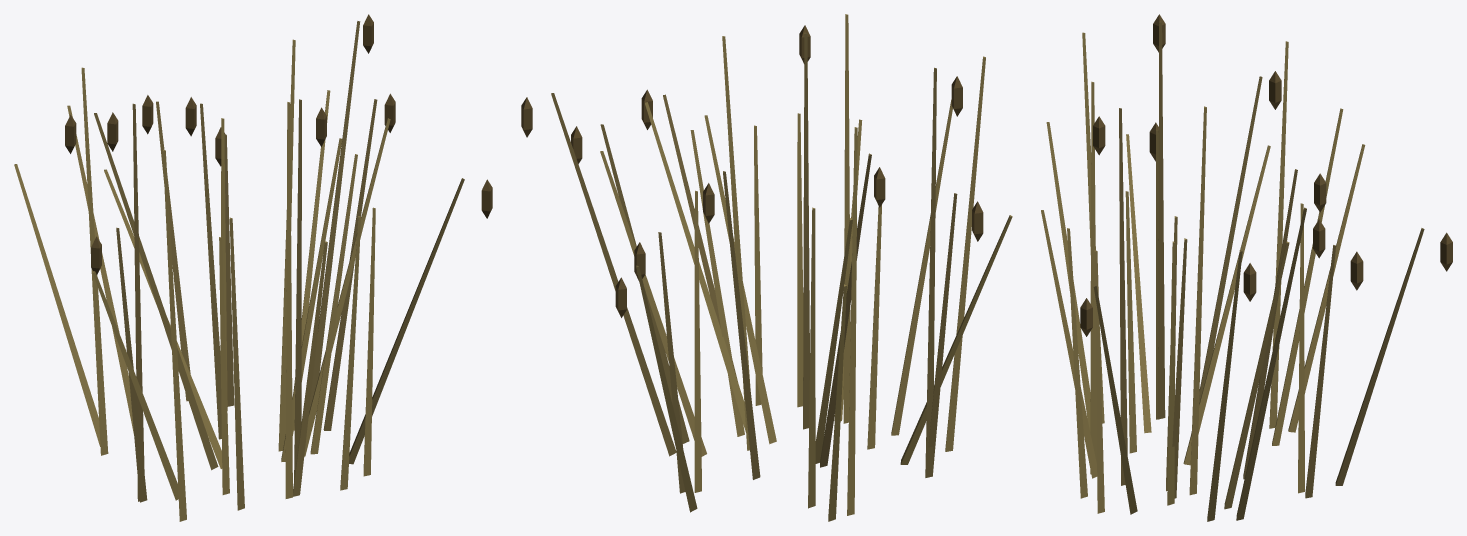
File: br_x_dead_reeds.glb
3 renders of one model, left to right at view 1: azimuth 30°, elevation 25°; view 2: azimuth 150°, elevation 25°; view 3: azimuth 270°, elevation 25°, orthographic. The views are drawn at different scales.
Parts seen in each view (by area): view 1: br_x_dead_reeds; view 2: br_x_dead_reeds; view 3: br_x_dead_reeds.
Boxes of the visible parts, left/top/right/bottom form: br_x_dead_reeds: left=14, top=14, right=492, bottom=521; br_x_dead_reeds: left=521, top=14, right=1012, bottom=521; br_x_dead_reeds: left=1041, top=14, right=1452, bottom=521.
Bounding box in the file's own units: 1.79 × 1.81 × 1.7.
